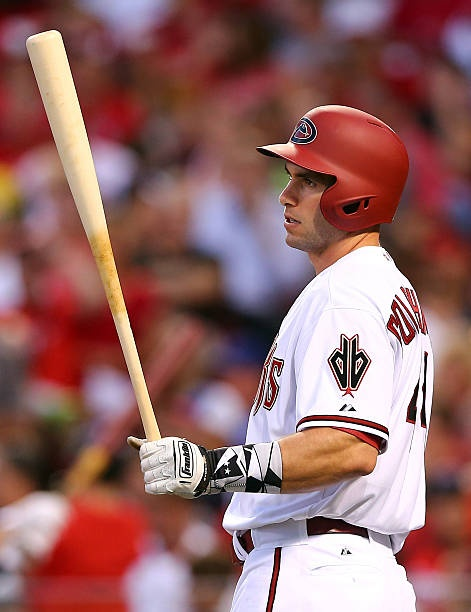bita: (27, 29, 170, 447)
